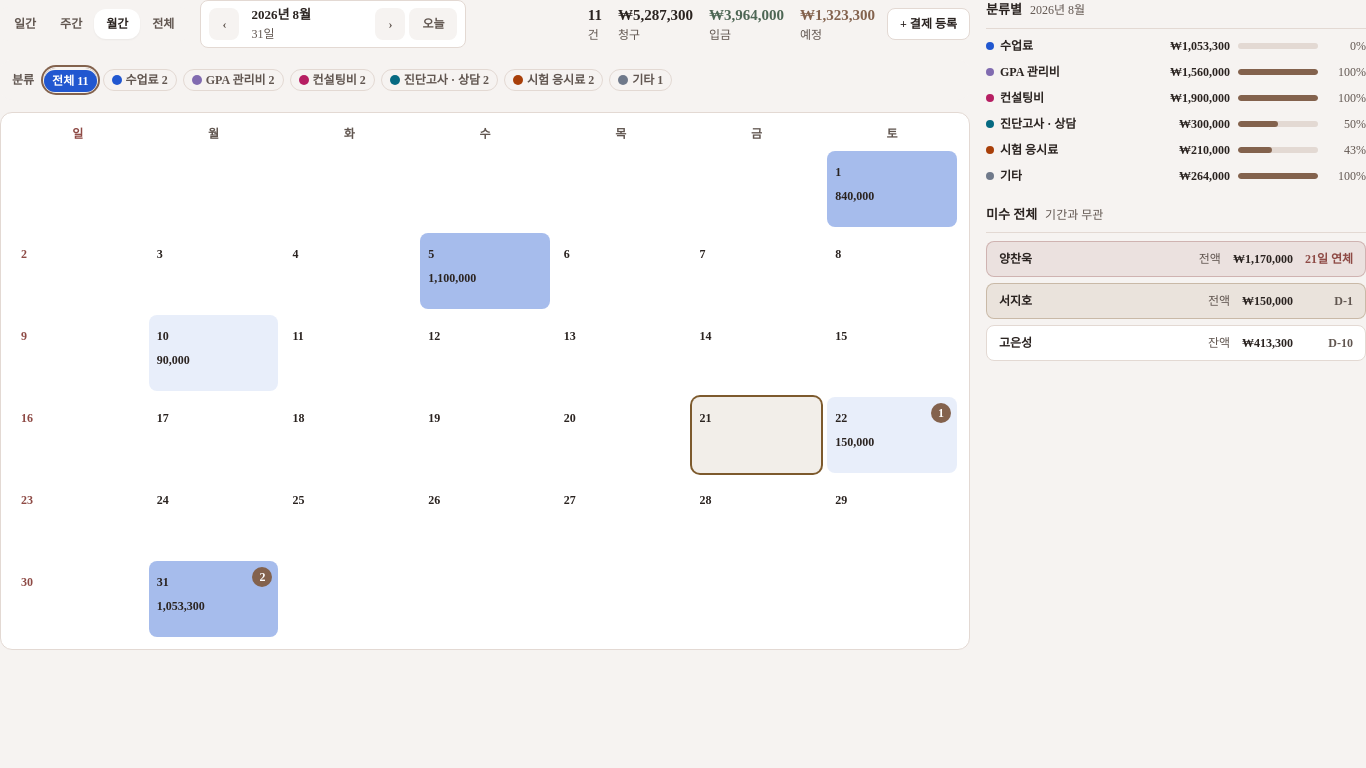
Scenario: 요약 옆에 「+ 결제 등록」이 선다 — 청구서 없이 들어온 돈(A-D1 ②)을 적는 자리
Expected: the element named "기간 요약" is shown, 588,4 -> 875,44
What coordinates should you click on to do the following:
click the button "+ 결제 등록"
I would click on:
 (928, 24)
Its box is 887,8 -> 970,40.
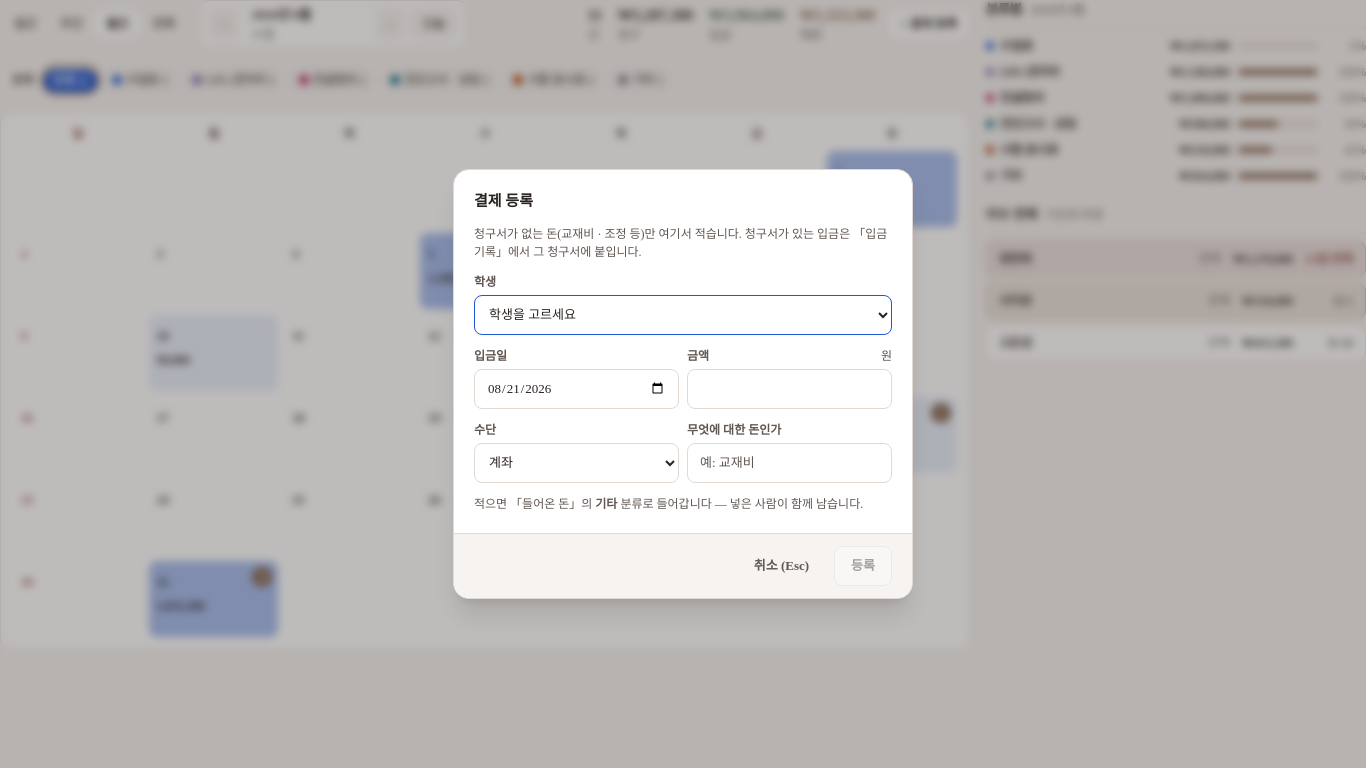
Now the dialog "결제 등록" is shown, box 453,169 -> 913,599
